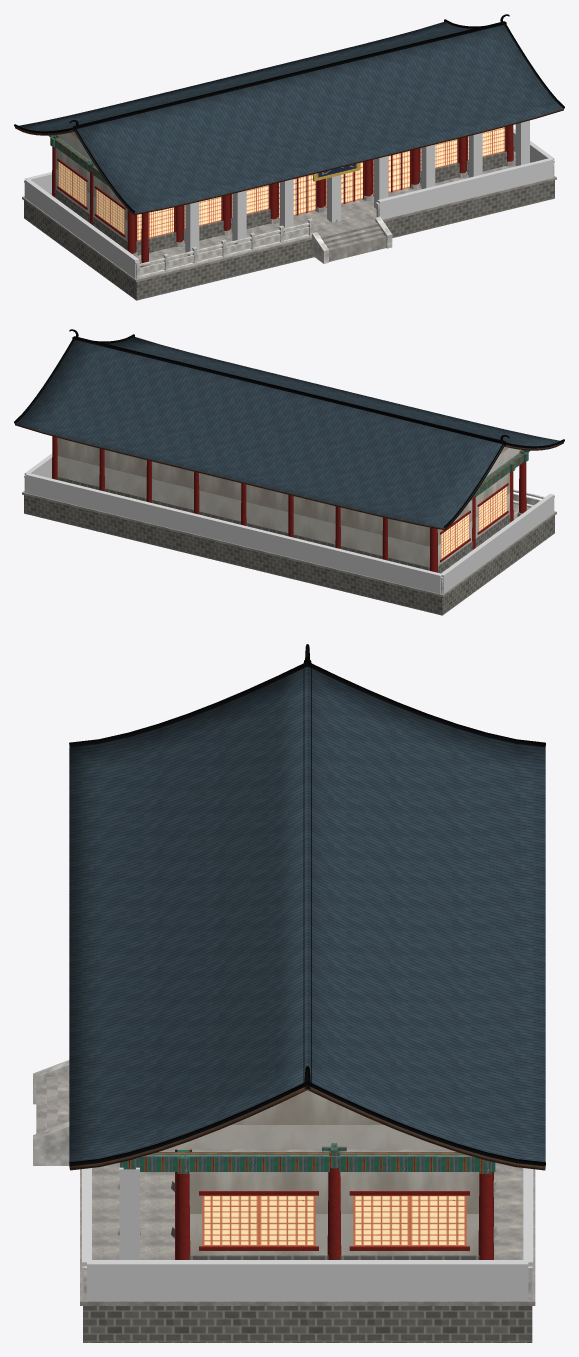
Rendered from sect_refectory.glb.
3 views of the same model, one above another, from view 1: azimuth 30°, elevation 25°; view 2: azimuth 150°, elevation 25°; view 3: azimuth 270°, elevation 25° (orthographic). The views are drawn at different scales.
Parts seen in each view (by area): view 1: RefectoryRoof, RefectoryPodiumBase, RefectoryLattice, RefectoryPodiumCap, RefectoryRail-convcolonly.001, RefectoryColumns, RefectoryDado, RefectoryRoofRidge, RefectoryBalustrade, RefectoryRail-convcolonly.004, RefectoryFrames, RefectoryStairsfront (+12 smaller); view 2: RefectoryRoof, RefectoryWalls, RefectoryPodiumBase, RefectoryRail-convcolonly.003, RefectoryColumns, RefectoryRoofRidge, RefectoryRail-convcolonly.004, RefectoryDado, RefectoryPodiumCap, RefectoryLattice, RefectoryBeams, RefectoryFrames; view 3: RefectoryRoof, RefectoryRail-convcolonly.002, RefectoryPodiumBase, RefectoryPodiumCap, RefectoryLattice, RefectoryWalls, RefectoryGables, RefectoryBeams, RefectoryRoofRidge, RefectoryColumns, RefectoryFrames, RefectoryVCol-convcolonly.008 (+5 smaller).
Part boxes in pixels (x1,y1,x2,y2): RefectoryRoof: [15, 21, 563, 215]; RefectoryPodiumBase: [24, 180, 554, 300]; RefectoryLattice: [58, 127, 504, 241]; RefectoryPodiumCap: [22, 151, 556, 282]; RefectoryRail-convcolonly.001: [377, 158, 553, 219]; RefectoryColumns: [52, 125, 513, 262]; RefectoryDado: [55, 151, 506, 255]; RefectoryRoofRidge: [14, 14, 564, 213]; RefectoryBalustrade: [24, 160, 554, 278]; RefectoryRail-convcolonly.004: [24, 178, 139, 278]; RefectoryFrames: [57, 127, 506, 241]; RefectoryStairsfront: [319, 222, 386, 261]; RefectoryRoof: [15, 336, 563, 530]; RefectoryWalls: [57, 437, 509, 567]; RefectoryPodiumBase: [24, 495, 554, 615]; RefectoryRail-convcolonly.003: [25, 473, 442, 593]; RefectoryColumns: [52, 436, 526, 572]; RefectoryRoofRidge: [14, 329, 564, 528]; RefectoryRail-convcolonly.004: [441, 493, 554, 593]; RefectoryDado: [57, 476, 510, 573]; RefectoryPodiumCap: [22, 476, 556, 597]; RefectoryLattice: [441, 486, 506, 559]; RefectoryBeams: [469, 452, 528, 501]; RefectoryFrames: [440, 483, 508, 562]; RefectoryRoof: [69, 666, 545, 1170]; RefectoryRail-convcolonly.002: [87, 1260, 528, 1300]; RefectoryPodiumBase: [83, 1306, 532, 1342]; RefectoryPodiumCap: [80, 1149, 535, 1305]; RefectoryLattice: [202, 1195, 466, 1246]; RefectoryWalls: [189, 1172, 479, 1255]; RefectoryGables: [166, 1090, 448, 1149]; RefectoryBeams: [119, 1149, 495, 1173]; RefectoryRoofRidge: [69, 644, 545, 1166]; RefectoryColumns: [175, 1149, 493, 1259]; RefectoryFrames: [199, 1191, 469, 1250]; RefectoryVCol-convcolonly.008: [119, 1163, 139, 1259].
Size of what is drawn, in the model's own units: 30.31 by 9.29 by 15.3.
12 materials, 12 textured.
